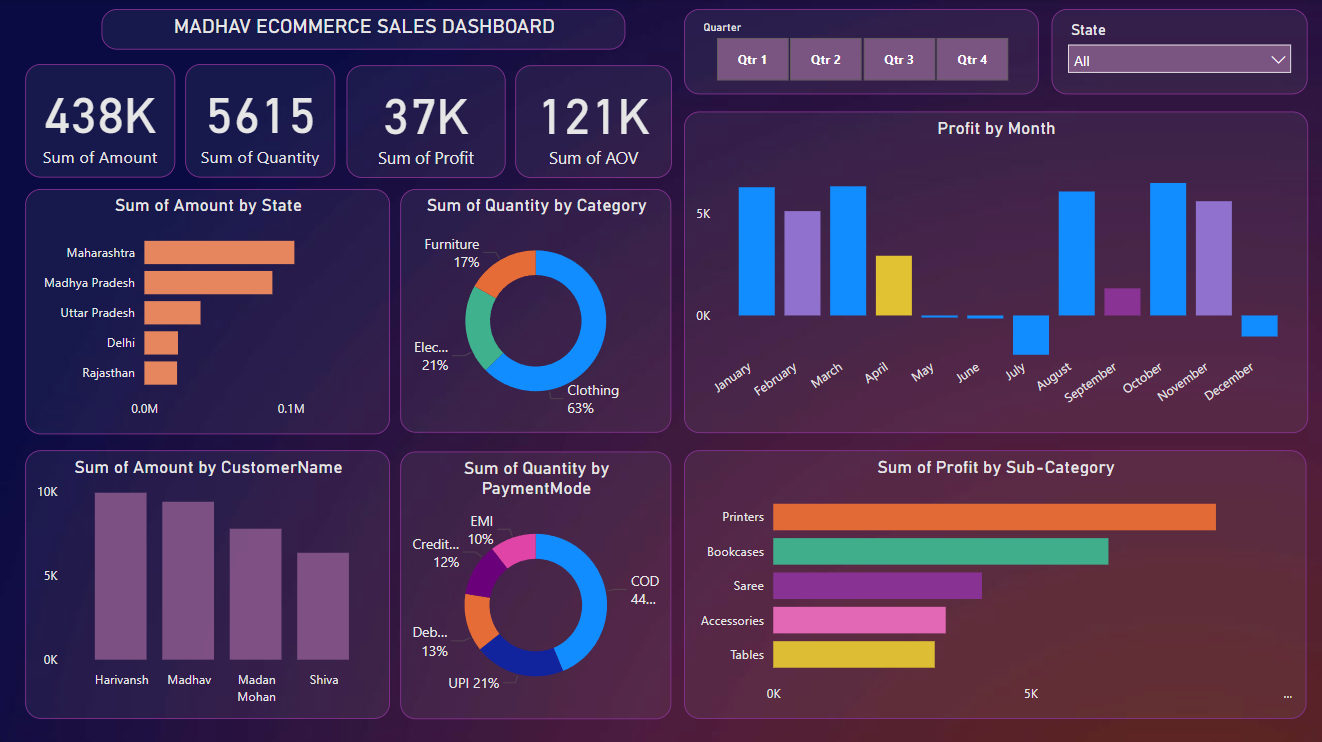

This screenshot's page, from the dashboard's own definition file:
{"tool":"powerbi","page":{"name":"Madhav sales","canvas":[1280,720],"ordinal":0},"visuals":[{"type":"textbox","title":"MADHAV ECOMMERCE SALES DASHBOARD","box":[99.5,9.4,505.7,39],"z":0},{"type":"columnChart","title":"Profit by Month","fields":{"Y":["in (2).Profit"],"Category":["in.Order Date.Variation.Date Hierarchy.Month"]},"box":[686.5,19.3,575.5,311.3],"z":1000},{"type":"barChart","fields":{"Category":["in (2).Sub-Category"],"Y":["in (2).Profit"]},"box":[686.5,382.4,576.7,293.2],"z":2000},{"type":"donutChart","fields":{"Category":["in (2).Category"],"Y":["in (2).Quantity"]},"box":[266.3,60.5,400.8,270.3],"z":3000},{"type":"donutChart","fields":{"Y":["in (2).Quantity"],"Category":["in (2).PaymentMode"]},"box":[269,381.9,394,293.2],"z":4000},{"type":"card","fields":{"Values":["in (2).Amount"]},"box":[25.6,63.2,181.6,133.1],"z":5000},{"type":"card","fields":{"Values":["in (2).Quantity"]},"box":[25.6,217.9,181.6,133.1],"z":6000},{"type":"card","fields":{"Values":["in (2).Profit"]},"box":[33.6,381.9,165.4,108.9],"z":7000},{"type":"card","fields":{"Values":["in (2).AOV"]},"box":[33.6,513.7,165.4,108.9],"z":8000}]}

Visuals, with their boxes in screenshot pixels (x1, y1, x2, y2), scaled from the page's 1280x720 canvas onto the 1322x742 screenshot:
"MADHAV ECOMMERCE SALES DASHBOARD" textbox: (x1=103, y1=10, x2=625, y2=50)
"Profit by Month" columnChart: (x1=709, y1=20, x2=1303, y2=341)
barChart - in (2).Sub-Category x in (2).Profit: (x1=709, y1=394, x2=1305, y2=696)
donutChart - in (2).Category x in (2).Quantity: (x1=275, y1=62, x2=689, y2=341)
donutChart - in (2).Quantity x in (2).PaymentMode: (x1=278, y1=394, x2=685, y2=696)
card - in (2).Amount: (x1=26, y1=65, x2=214, y2=202)
card - in (2).Quantity: (x1=26, y1=225, x2=214, y2=362)
card - in (2).Profit: (x1=35, y1=394, x2=206, y2=506)
card - in (2).AOV: (x1=35, y1=529, x2=206, y2=642)
